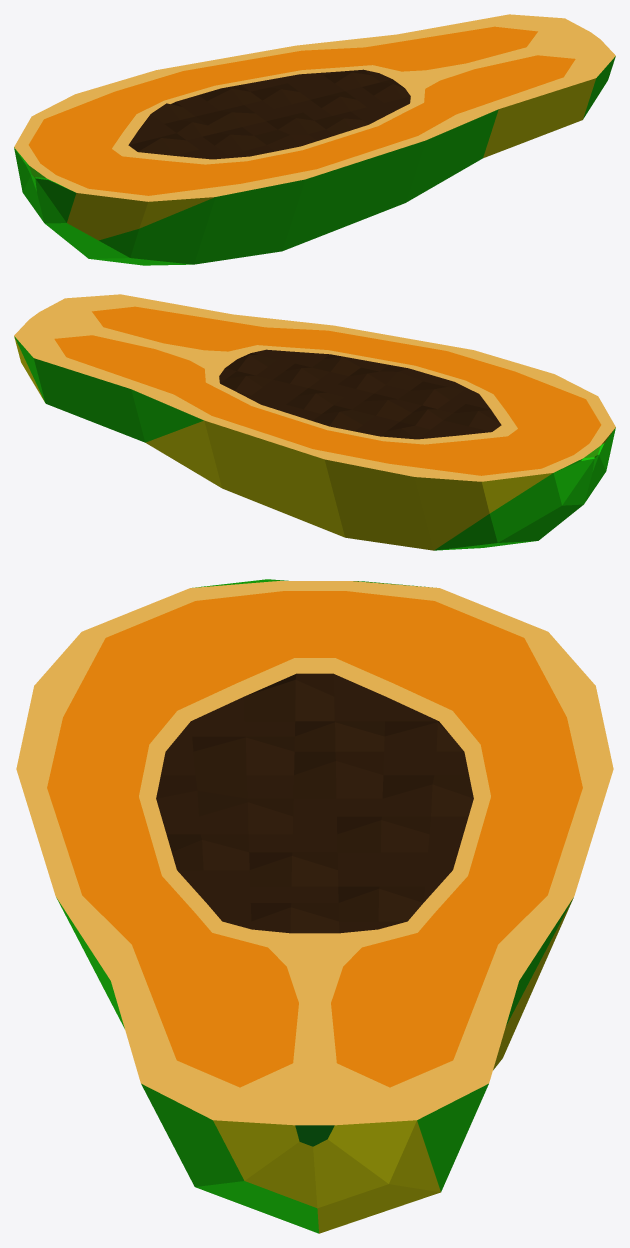
File: papaya02.gltf
3 views of the same model, one above another, from view 1: azimuth 30°, elevation 25°; view 2: azimuth 150°, elevation 25°; view 3: azimuth 270°, elevation 25° (orthographic). The views are drawn at different scales.
Parts seen in each view (by area): view 1: Cylinder.001; view 2: Cylinder.001; view 3: Cylinder.001.
Part boxes in pixels (<box>): Cylinder.001: <box>14,14,615,265</box>; Cylinder.001: <box>14,294,615,550</box>; Cylinder.001: <box>16,579,613,1233</box>.
Size of the model in its own units: 0.2347 by 0.0548 by 0.1079.
1 material, 1 textured.
